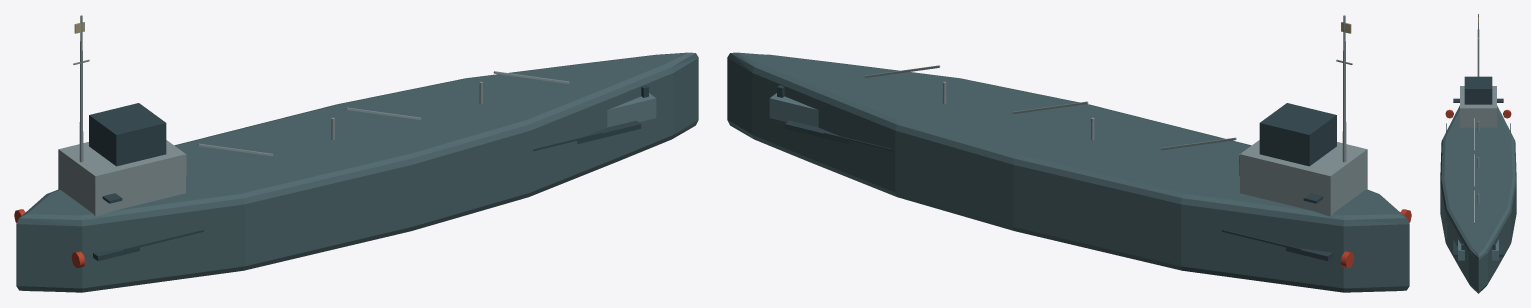
File: freighter.glb
3 views of the same model, side by side, from view 1: azimuth 30°, elevation 25°; view 2: azimuth 150°, elevation 25°; view 3: azimuth 270°, elevation 25° (orthographic). The views are drawn at different scales.
Parts seen in each view (by area): view 1: hull, bridge, bridge_wheelhouse, forecastle, deck, mast, rail; view 2: hull, bridge, bridge_wheelhouse, forecastle, deck, mast, rail; view 3: hull, bridge, bridge_wheelhouse, forecastle, mast, deck.
Part boxes in pixels (bbox=[...]): hull: bbox=[16, 52, 698, 292]; bridge: bbox=[58, 140, 185, 216]; bridge_wheelhouse: bbox=[89, 103, 166, 166]; forecastle: bbox=[607, 93, 656, 127]; deck: bbox=[93, 120, 641, 261]; mast: bbox=[79, 15, 83, 162]; rail: bbox=[124, 132, 601, 250]; hull: bbox=[727, 52, 1409, 292]; bridge: bbox=[1240, 140, 1367, 216]; bridge_wheelhouse: bbox=[1259, 103, 1336, 166]; forecastle: bbox=[769, 93, 818, 127]; deck: bbox=[784, 120, 1332, 261]; mast: bbox=[1342, 15, 1346, 162]; rail: bbox=[824, 132, 1301, 250]; hull: bbox=[1440, 105, 1516, 293]; bridge: bbox=[1460, 86, 1496, 127]; bridge_wheelhouse: bbox=[1464, 76, 1492, 104]; forecastle: bbox=[1458, 239, 1498, 260]; mast: bbox=[1477, 14, 1479, 76]; deck: bbox=[1453, 240, 1503, 256].
Size of the model in its own units: 20.36 by 7.47 by 3.96.
